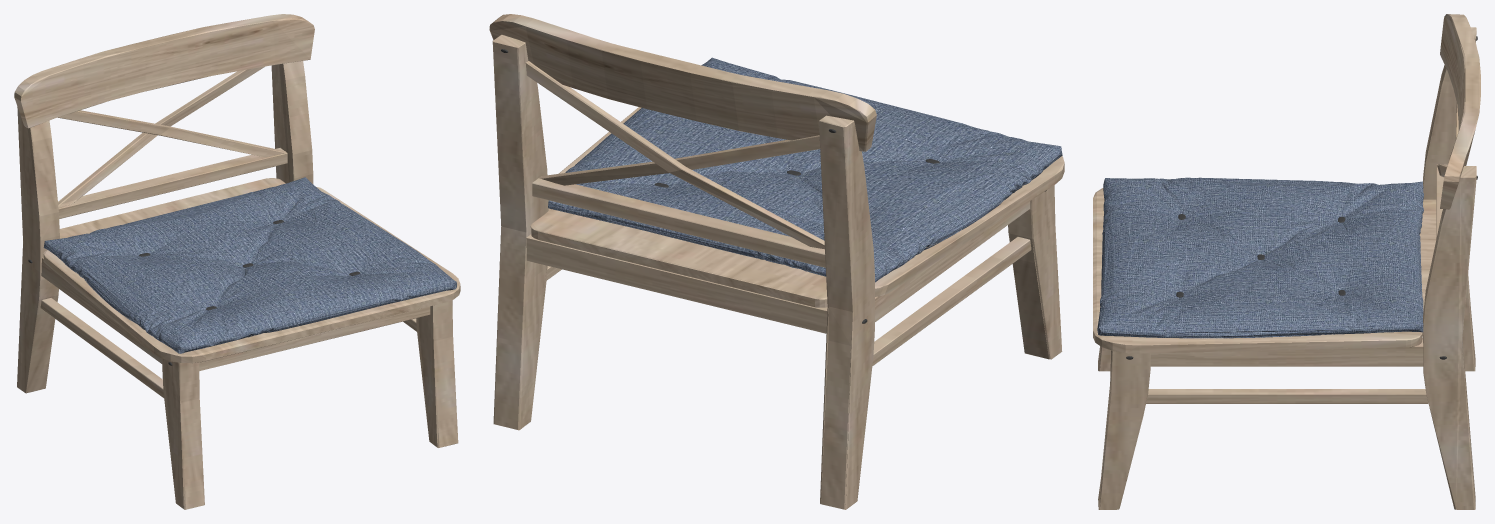
Rendered from sh-bs0-chair-with-cushion.glb.
3 renders of one model, left to right at view 1: azimuth 30°, elevation 25°; view 2: azimuth 150°, elevation 25°; view 3: azimuth 270°, elevation 25°, orthographic. The views are drawn at different scales.
Visible parts, largest first — view 1: Chair5_Untitled.001, Cushion_Untitled.028; view 2: Chair5_Untitled.001, Cushion_Untitled.028; view 3: Cushion_Untitled.028, Chair5_Untitled.001.
Part boxes in pixels (x1,y1,x2,y2): Chair5_Untitled.001: (14,14,460,509); Cushion_Untitled.028: (43,177,456,353); Chair5_Untitled.001: (489,14,1064,509); Cushion_Untitled.028: (548,57,1062,282); Cushion_Untitled.028: (1097,177,1423,338); Chair5_Untitled.001: (1093,14,1480,509).
Size of the model in its own units: 0.9973 by 0.9993 by 1.
Materials: 3 (2 with a texture image).
